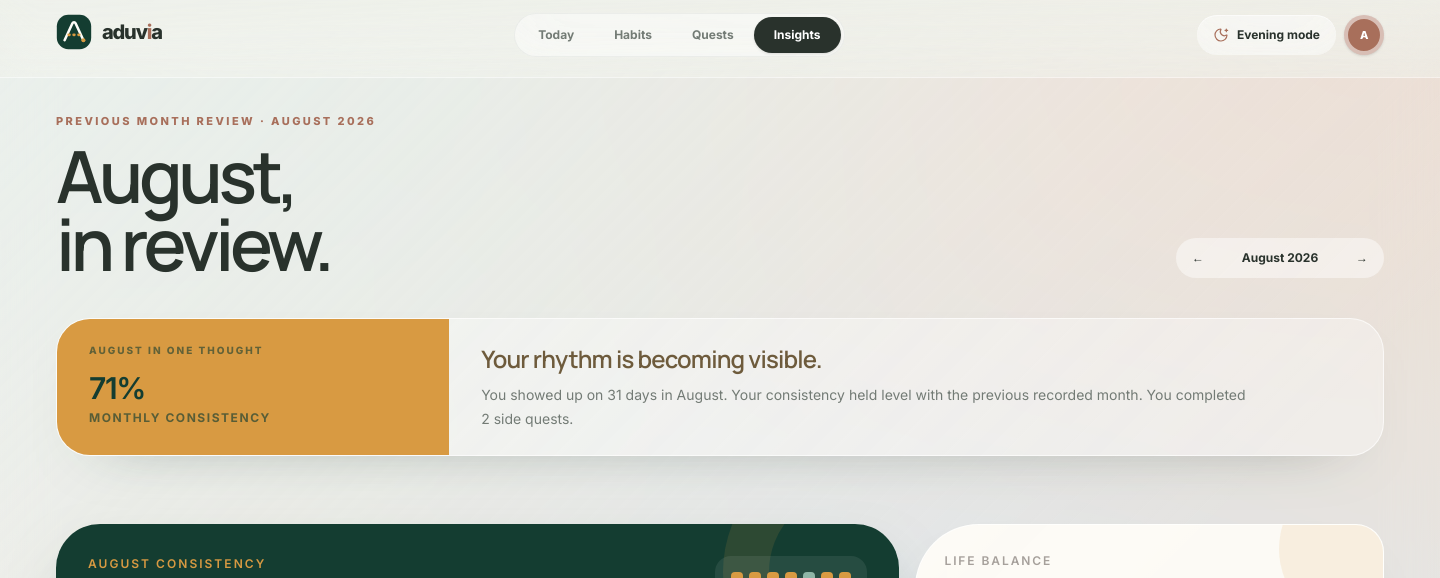
Test: MonthlyReport › uses the calendar day count when changing months
Click the button named "Previous month" at (1198, 258), box [1180,242,1216,274]
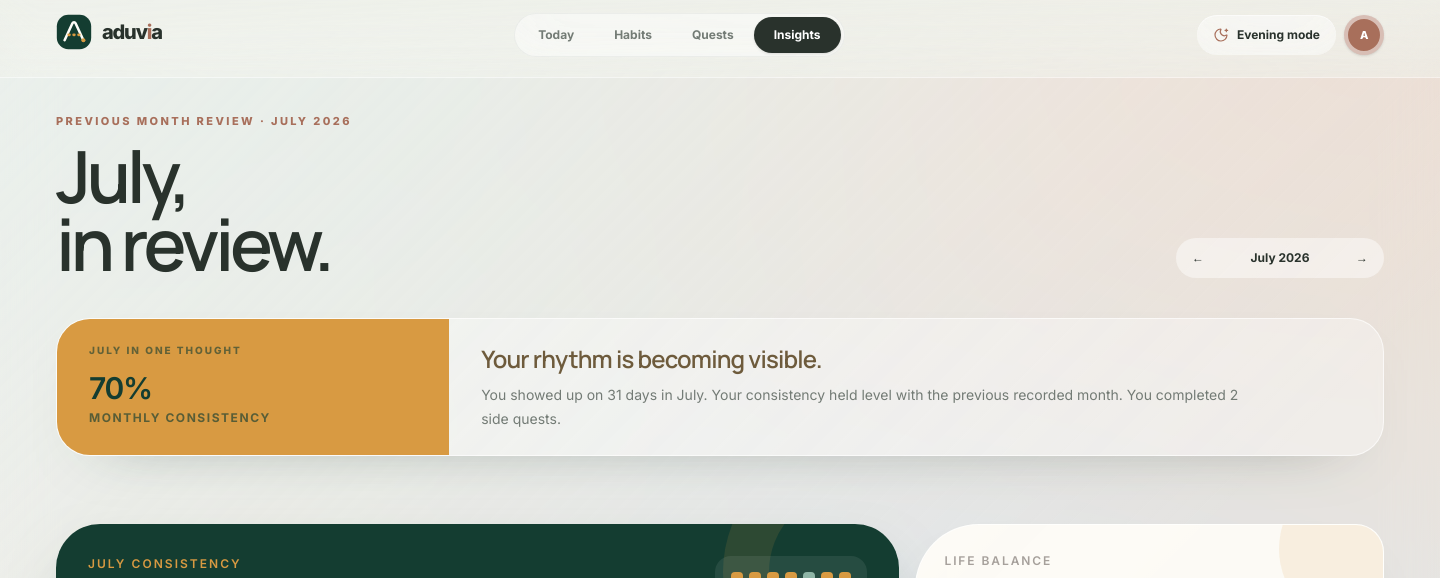
Click the button named "Previous month" at (1198, 258), box [1180,242,1216,274]
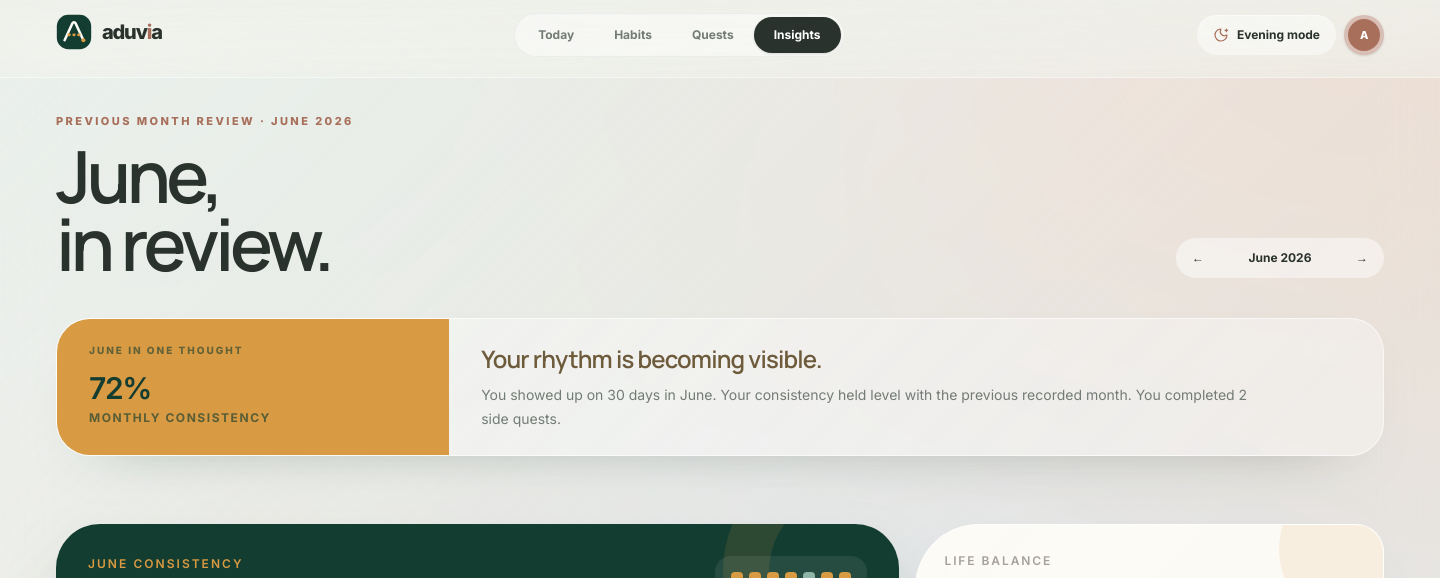
Click the button named "Previous month" at (1198, 258), box [1180,242,1216,274]
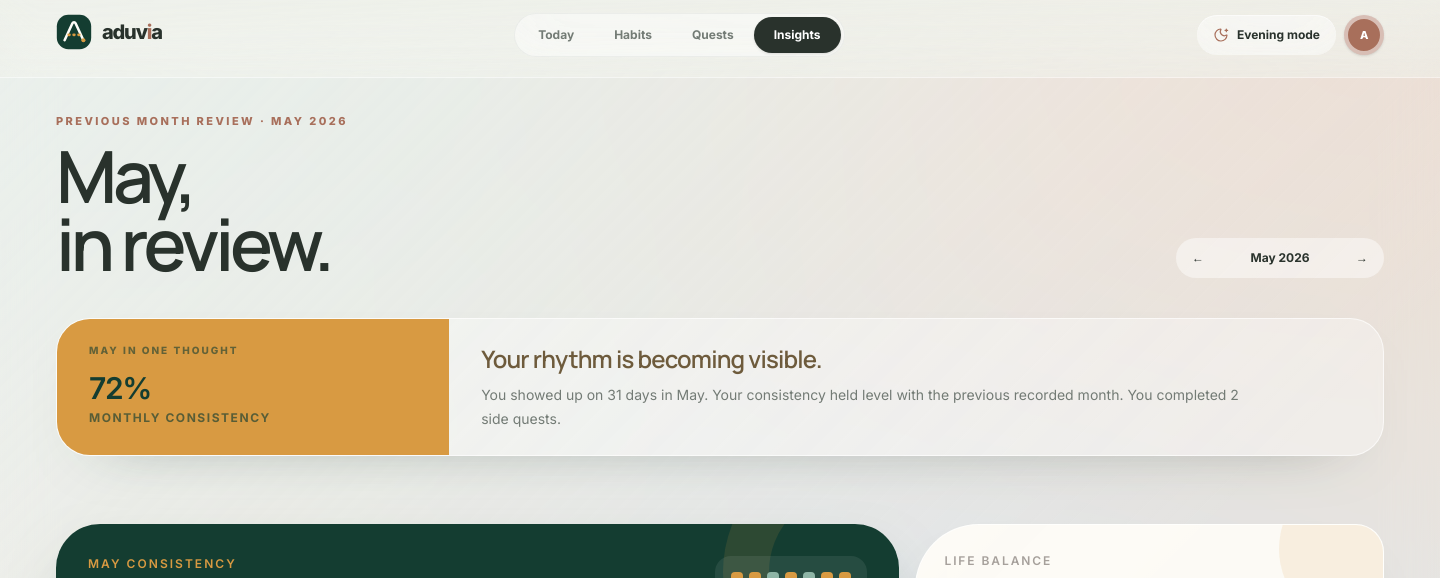
Click the button named "Previous month" at (1198, 258), box [1180,242,1216,274]
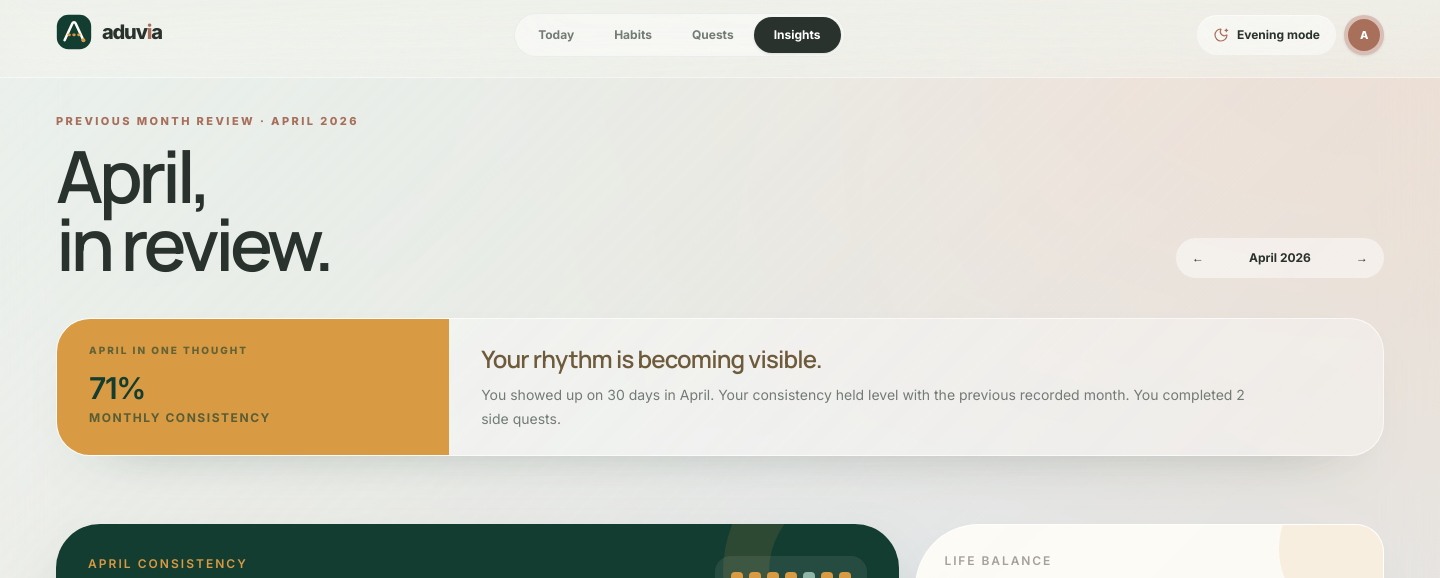
Click the button named "Previous month" at (1198, 258), box [1180,242,1216,274]
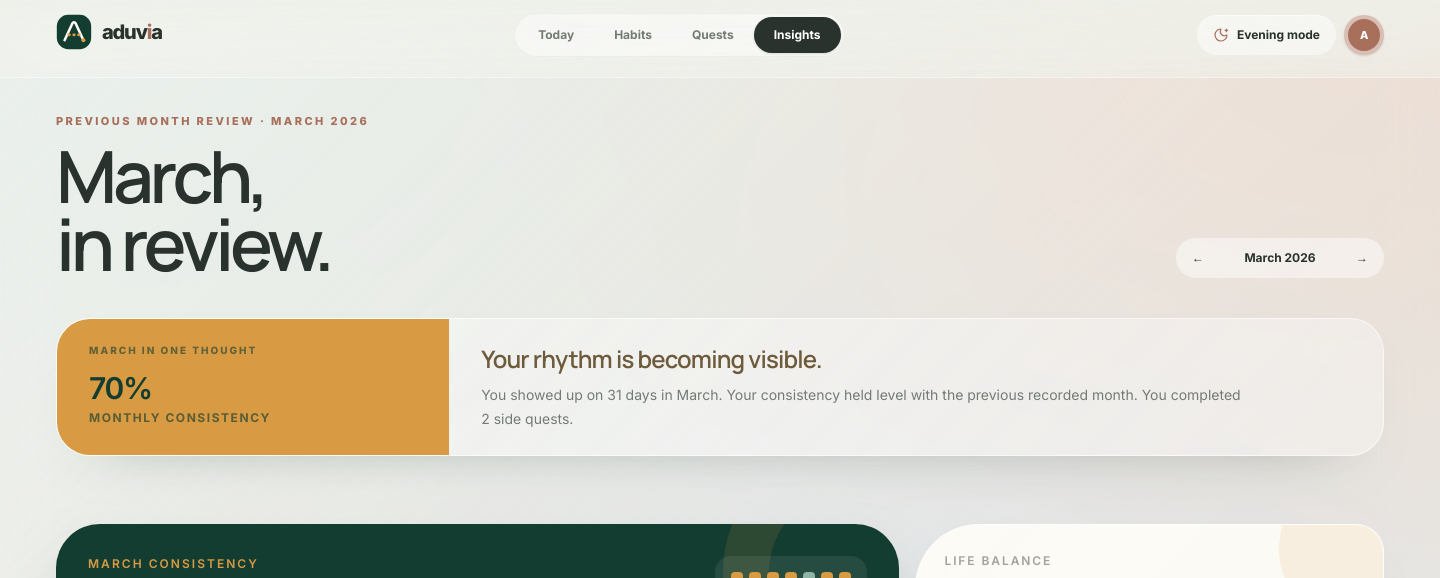
Click the button named "Previous month" at (1198, 258), box [1180,242,1216,274]
(page scrolled)
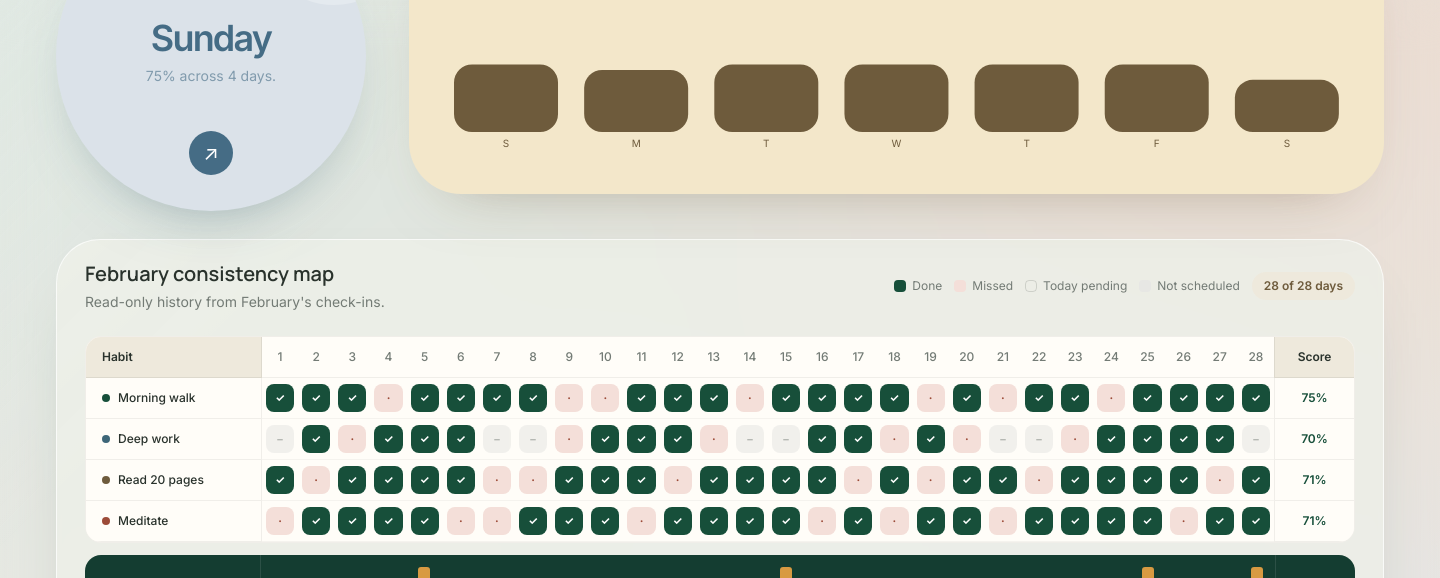
Expected: the field labelled "Morning walk, February 29" is not shown
Expected: the text named "Morning walk, February 28: done" is shown, [1242,384,1270,412]
